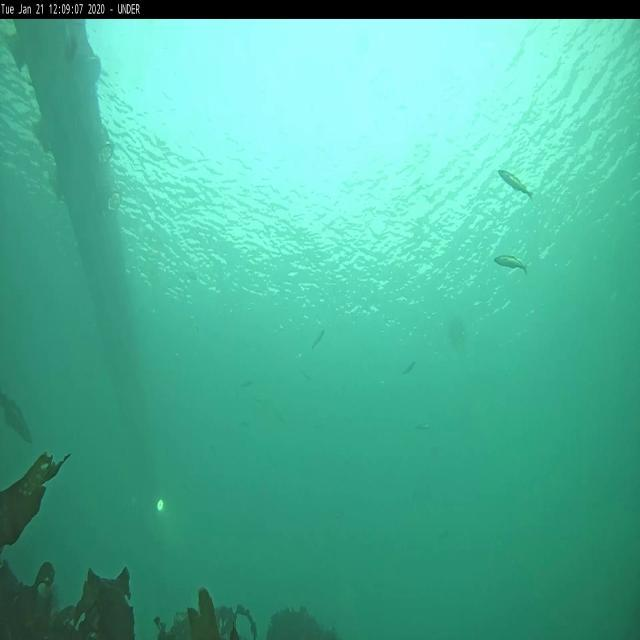fish: (1, 389, 33, 446), (498, 170, 532, 203), (494, 253, 530, 275), (309, 328, 325, 348), (402, 362, 417, 375), (416, 422, 430, 432)
